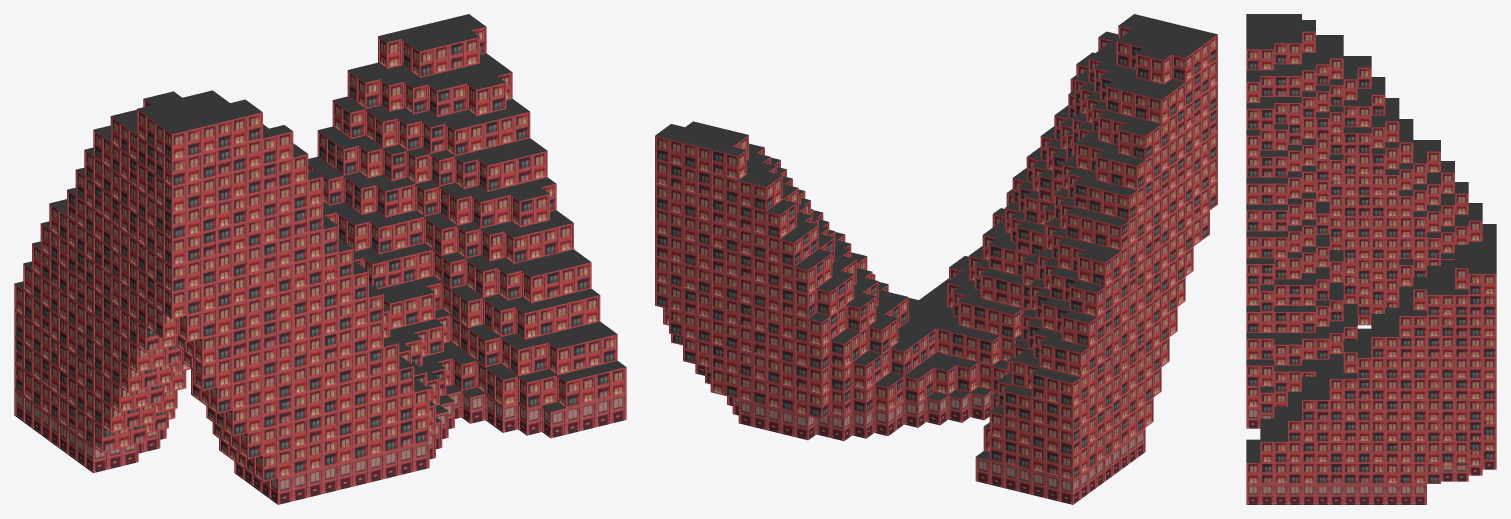
Rendered from archweekend_1_2.glb.
The picture shows the model from 3 angles, left to right: view 1: azimuth 30°, elevation 25°; view 2: azimuth 150°, elevation 25°; view 3: azimuth 270°, elevation 25°; orthographic projection. The views are drawn at different scales.
Parts seen in each view (by area): view 1: house-2; view 2: house-2; view 3: house-2.
Part boxes in pixels (x1=…): house-2: x1=14, y1=14, x2=626, y2=504; house-2: x1=655, y1=14, x2=1217, y2=504; house-2: x1=1246, y1=14, x2=1496, y2=504.
Size of the model in its own units: 90 by 75 by 54.
5 materials, 4 textured.
